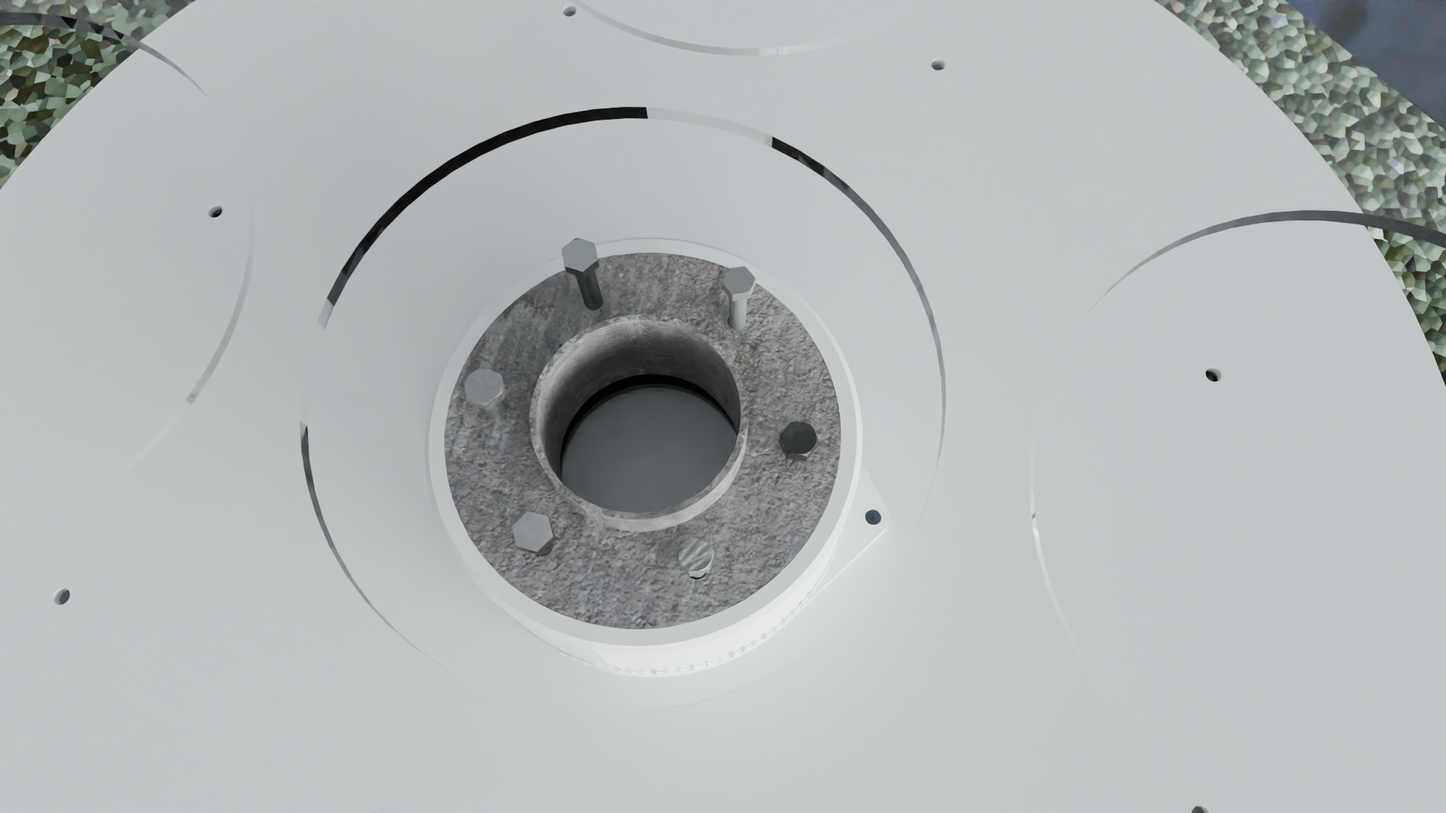bolt: (512, 511, 553, 552), (464, 367, 502, 406), (676, 537, 714, 574), (779, 422, 819, 457), (561, 238, 598, 272), (721, 266, 756, 295)
